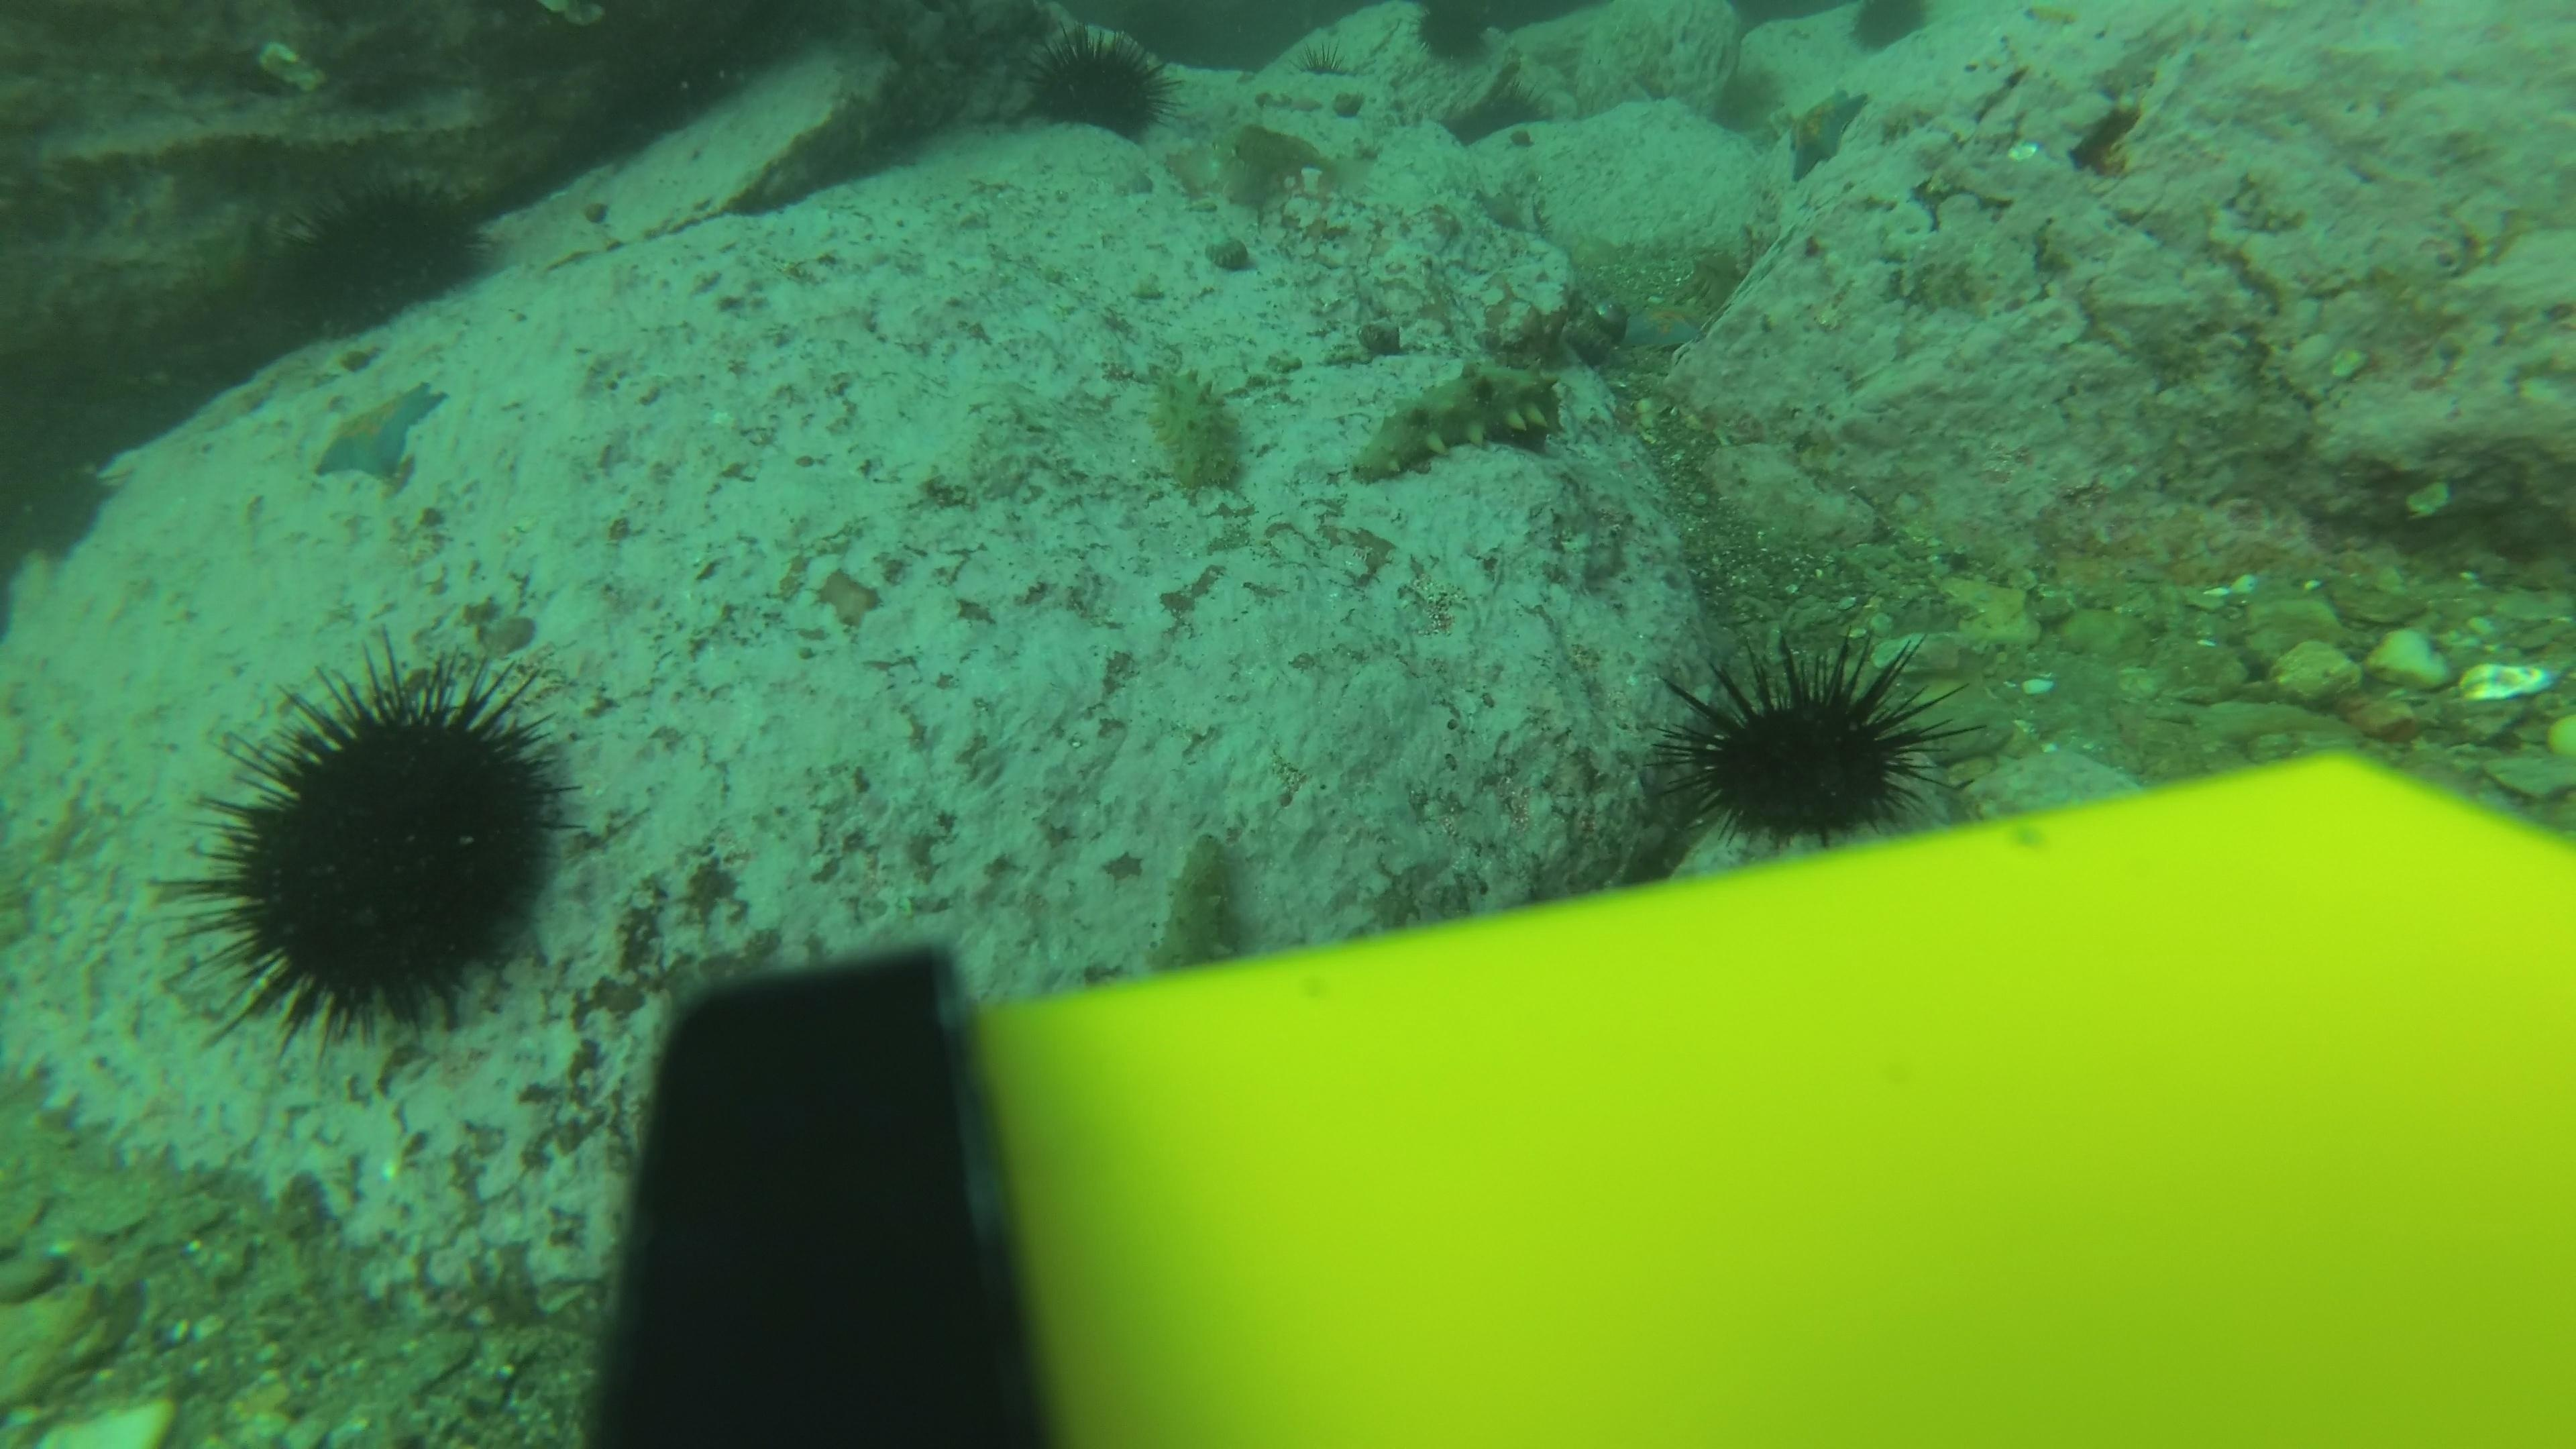echinus: (180, 649, 582, 1047), (1654, 630, 1964, 847), (276, 170, 495, 331), (2, 412, 122, 577), (1017, 25, 1177, 147), (1407, 2, 1504, 71), (1842, 0, 1936, 58)
holothurian: (1343, 352, 1568, 488), (1146, 828, 1258, 980), (1141, 363, 1253, 501)
starfish: (306, 375, 453, 488), (1771, 83, 1870, 182), (1612, 290, 1718, 357), (1470, 177, 1546, 239)
